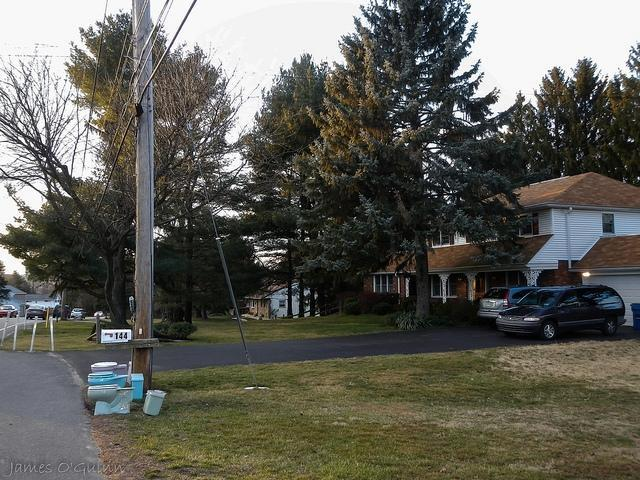car: (496, 285, 627, 340), (476, 287, 509, 319), (54, 305, 104, 318), (24, 304, 50, 320), (0, 304, 18, 318)
